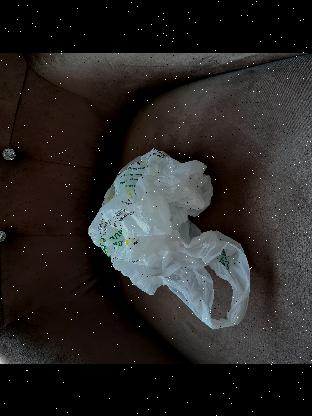Others: (86, 150, 250, 326)
